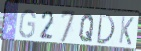2: (38, 10, 55, 41)
7: (60, 9, 77, 44)
D: (96, 13, 116, 46)
G: (17, 9, 37, 40)
K: (118, 15, 135, 47)
Q: (78, 13, 96, 43)
